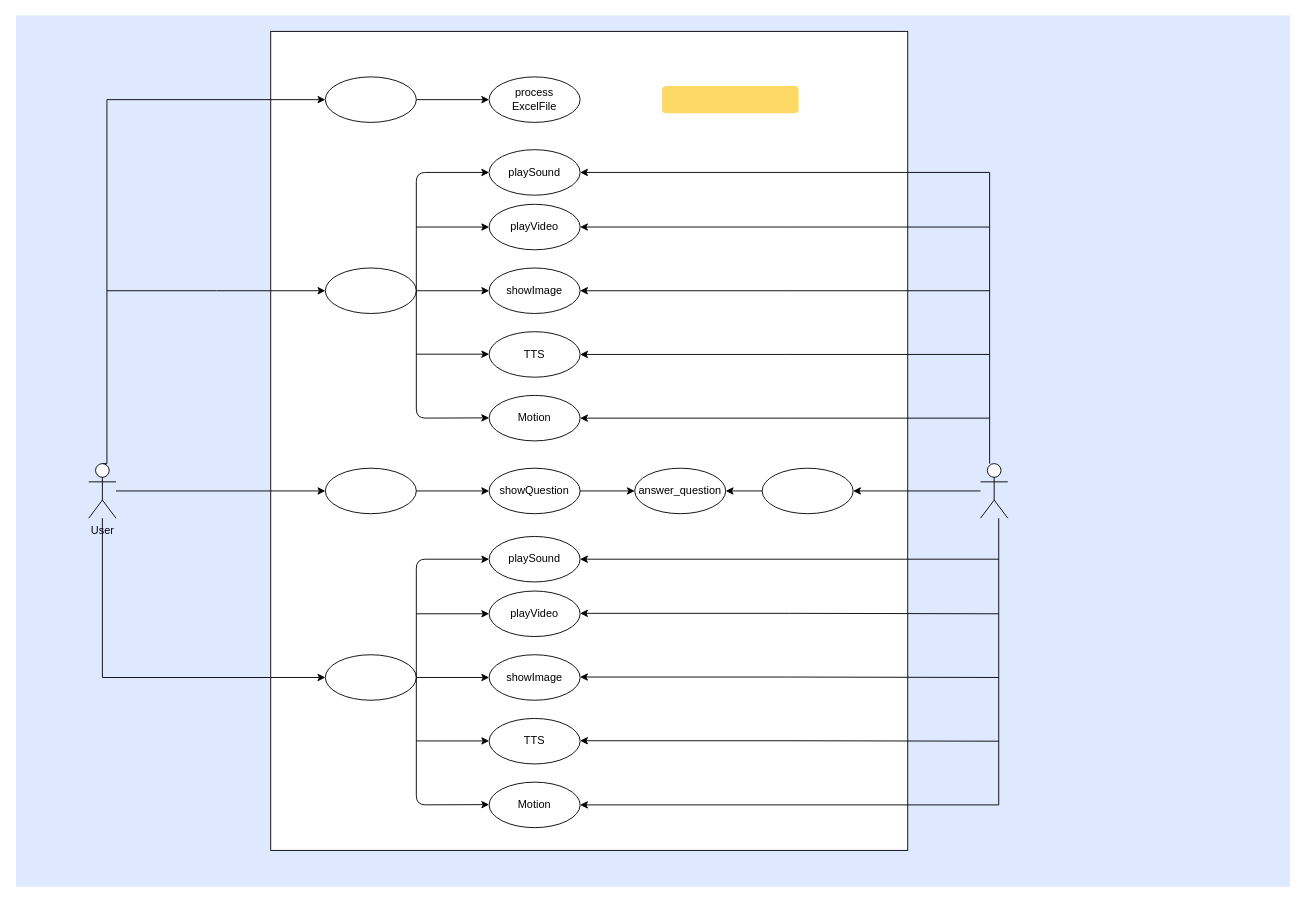
Image size: 1305x903. Some labels were removed from this diagram. Each missing label, with the box of its shape:
choose ExcelFile: (324, 76, 416, 122)
Feedback: (761, 467, 853, 514)
Kebbi: (980, 463, 1008, 518)
StoryTelling: (662, 86, 798, 113)
View Ending: (324, 267, 416, 313)
View Review: (324, 467, 416, 514)
View Section: (324, 654, 416, 700)
